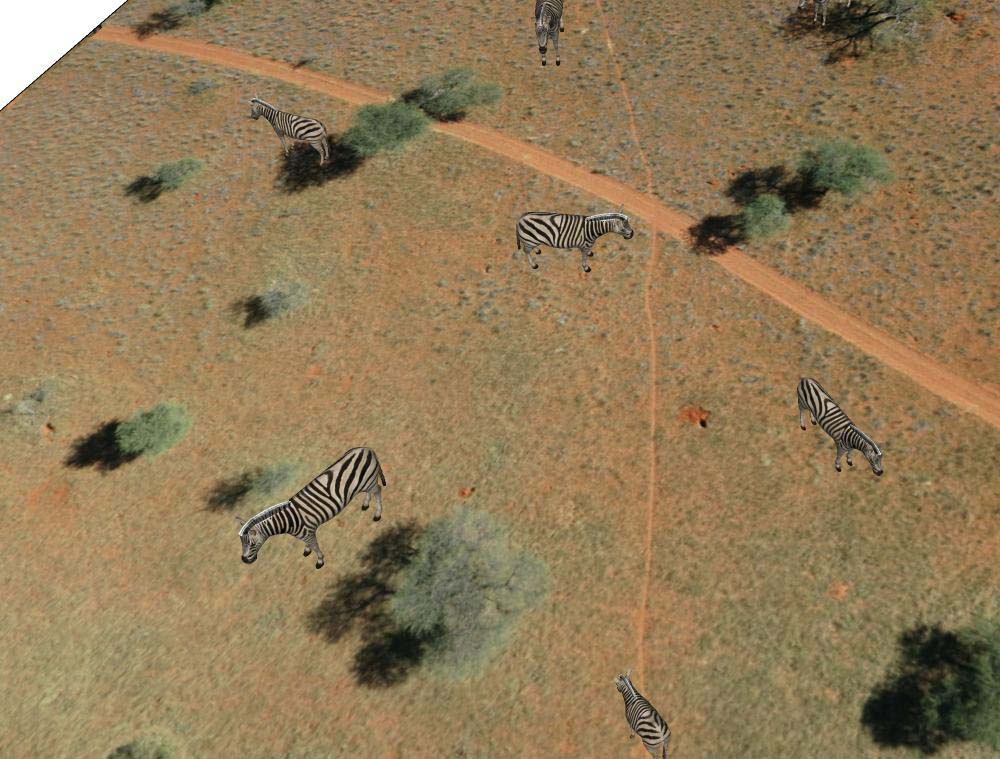zebra: (237, 443, 390, 573), (512, 192, 633, 273), (796, 370, 883, 481), (248, 89, 333, 178), (610, 667, 679, 759), (528, 1, 577, 72)
